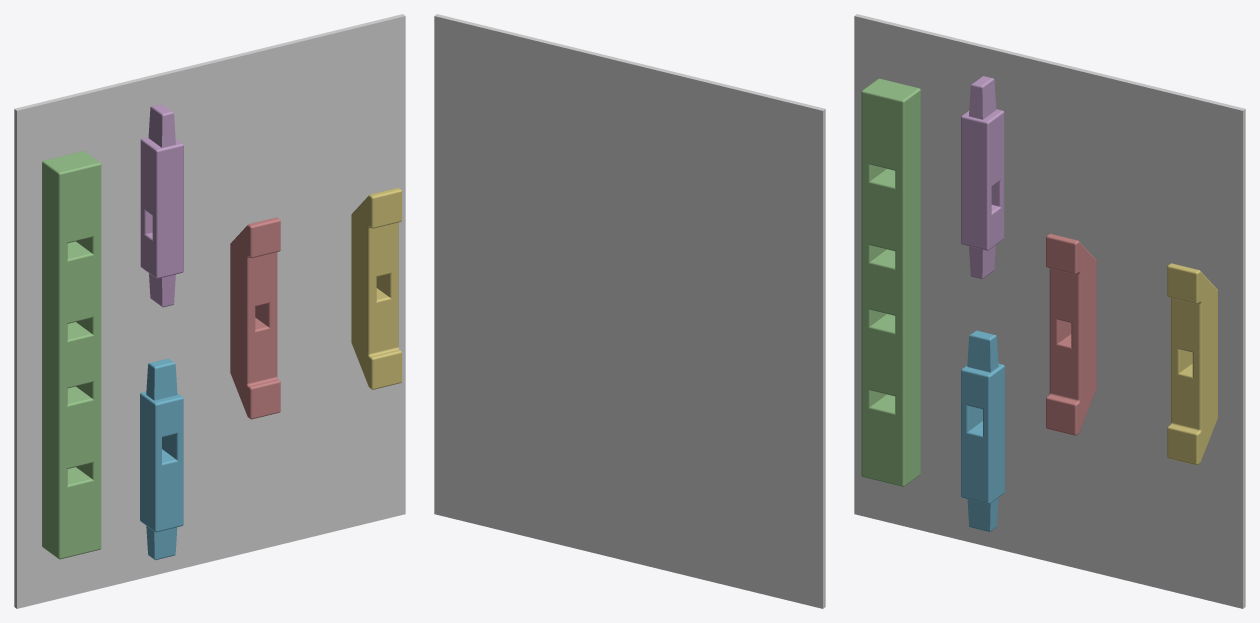
Rendered from pickup_layout.glb.
3 views of the same model, side by side, from view 1: azimuth 30°, elevation 25°; view 2: azimuth 150°, elevation 25°; view 3: azimuth 330°, elevation 25° (orthographic).
Parts seen in each view (by area): view 1: world, 6.obj, 0.obj, 1.obj, 2.obj, 3.obj; view 2: world; view 3: world, 6.obj, 0.obj, 1.obj, 2.obj, 3.obj.
Part boxes in pixels (x1,y1,x2,y2): world: (14, 14, 405, 608); 6.obj: (42, 151, 101, 559); 0.obj: (230, 217, 280, 419); 1.obj: (351, 188, 401, 389); 2.obj: (140, 358, 183, 560); 3.obj: (140, 104, 183, 307); world: (434, 14, 825, 608); world: (854, 14, 1245, 608); 6.obj: (861, 78, 920, 486); 0.obj: (1046, 233, 1096, 435); 1.obj: (1167, 263, 1217, 465); 2.obj: (961, 330, 1004, 531); 3.obj: (961, 76, 1004, 279).
Size of the model in its own units: 16.02 by 19.62 by 1.72.
